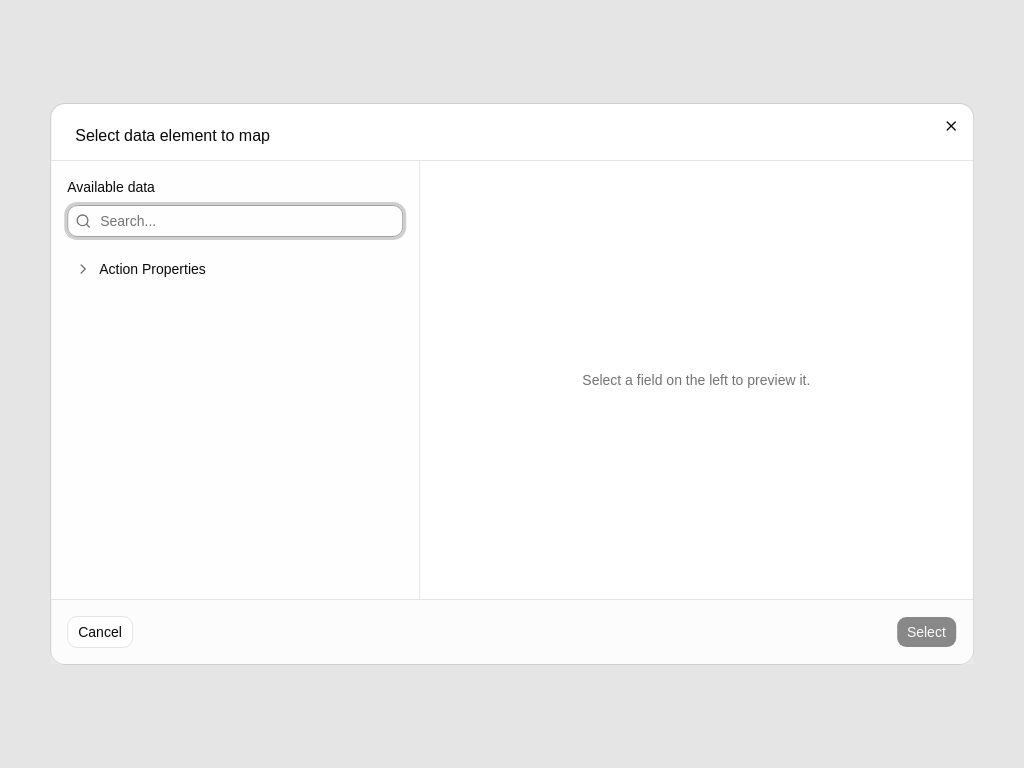
Test: PrefillModal › search filters the tree
In the field with placeholder "Search...": (235, 221) [67,205,403,237], type "name"
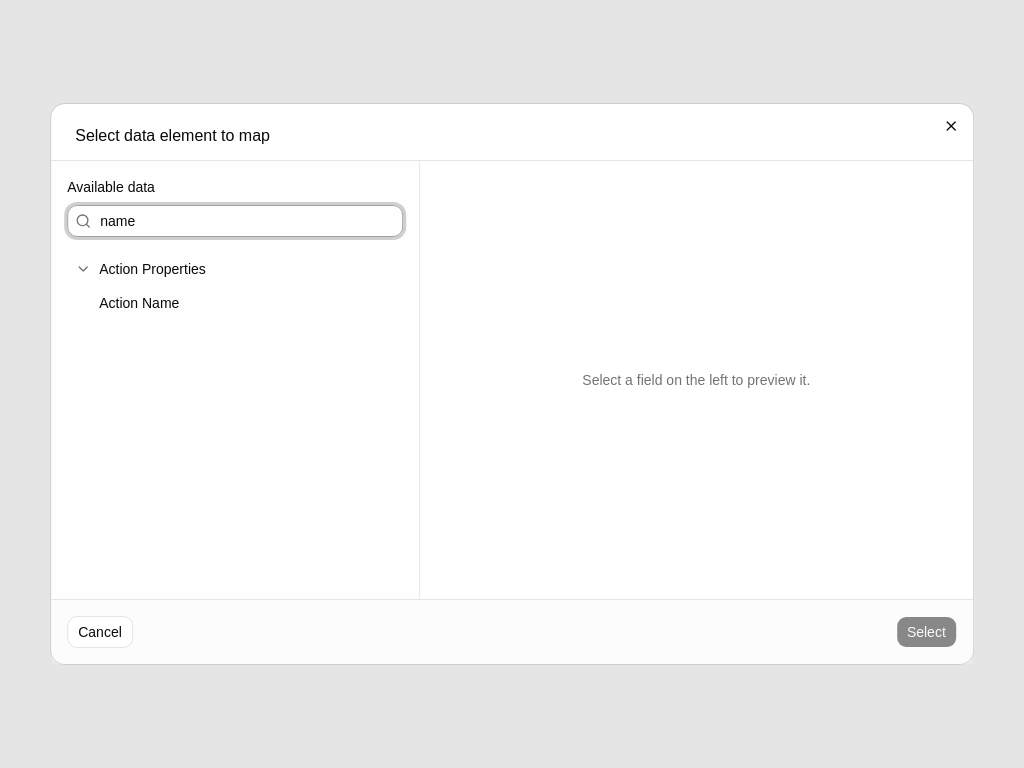
Now the button "Action Name" is shown, box [91,289,403,317]
